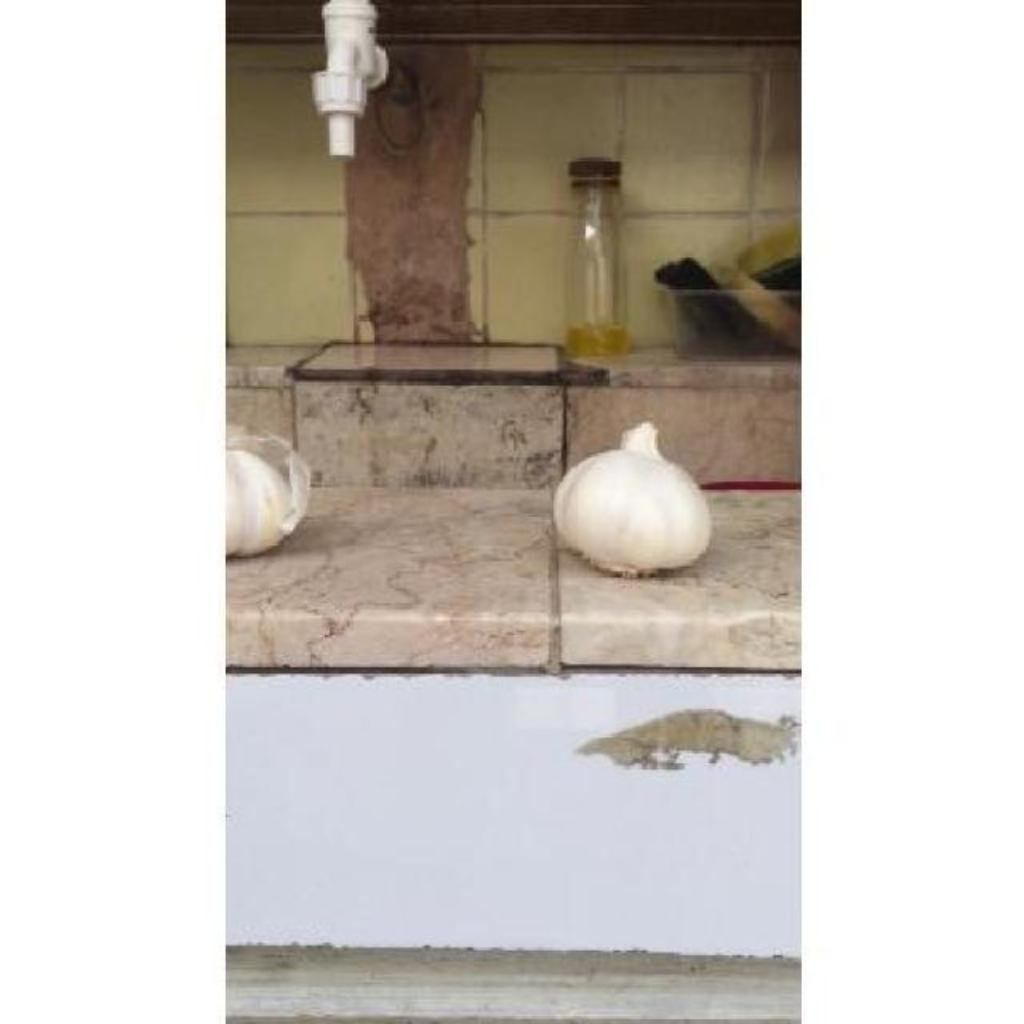garlic: (554, 422, 712, 575), (226, 434, 310, 555)
